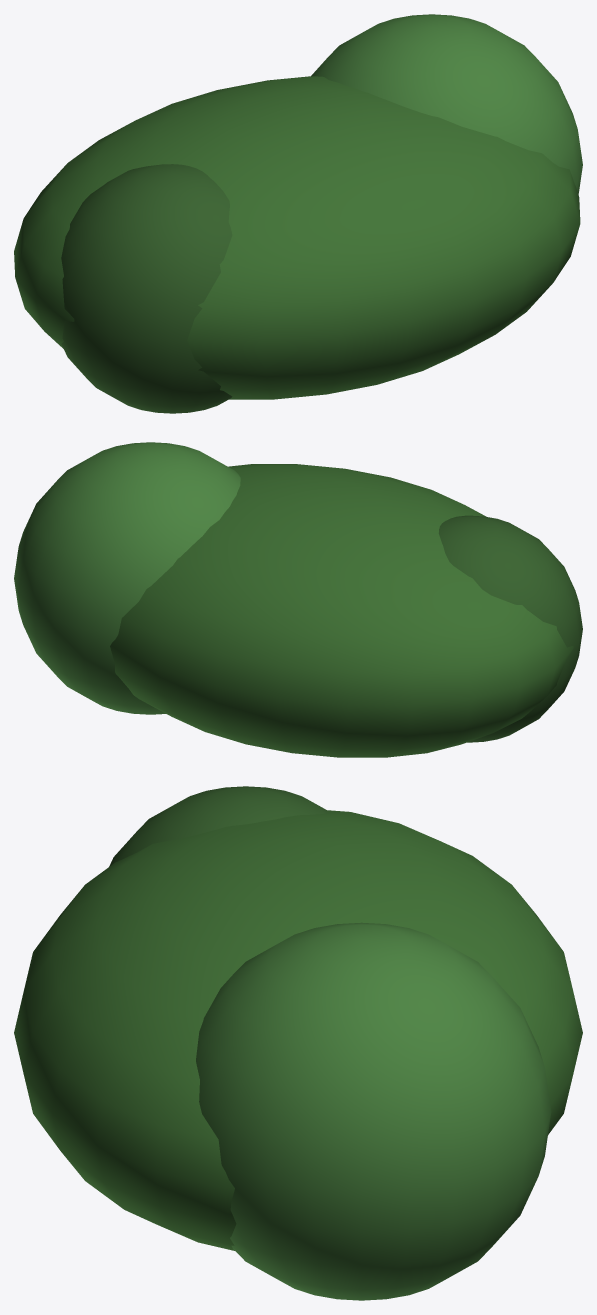
File: e_bush.glb
The picture shows the model from 3 angles, top to bottom: view 1: azimuth 30°, elevation 25°; view 2: azimuth 150°, elevation 25°; view 3: azimuth 270°, elevation 25°; orthographic projection. The views are drawn at different scales.
Parts seen in each view (by area): view 1: eb_b0.008, eb_b2.008, eb_b1.008; view 2: eb_b0.008, eb_b1.008, eb_b2.008; view 3: eb_b1.008, eb_b0.008, eb_b2.008.
Boxes of the visible parts, x1,y1,x2,y2 form: eb_b0.008: [14, 76, 580, 399]; eb_b2.008: [61, 164, 232, 413]; eb_b1.008: [311, 14, 582, 194]; eb_b0.008: [110, 464, 573, 757]; eb_b1.008: [14, 442, 240, 714]; eb_b2.008: [438, 515, 582, 742]; eb_b1.008: [196, 922, 551, 1300]; eb_b0.008: [14, 810, 582, 1250]; eb_b2.008: [109, 786, 327, 866].
Bounding box in the file's own units: 0.76 × 0.365 × 0.54.
